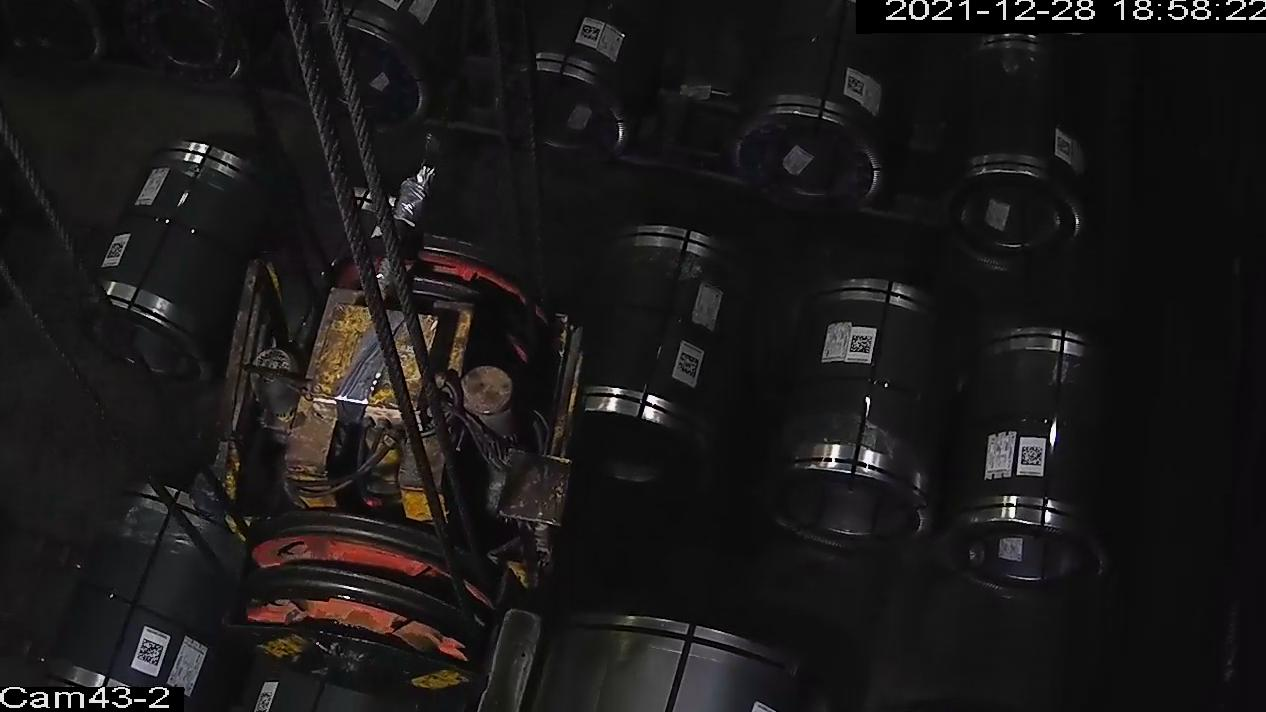data matrix: (135, 637, 166, 669), (676, 352, 701, 381), (1020, 445, 1046, 470), (849, 334, 875, 357), (579, 23, 603, 44), (846, 75, 867, 99), (254, 690, 276, 712), (106, 241, 129, 262), (1056, 135, 1075, 160)
